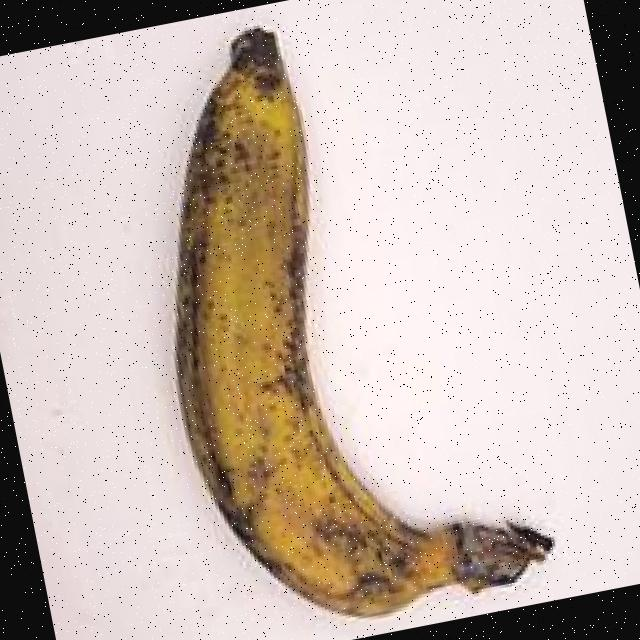Overripe: (92, 0, 577, 640)
